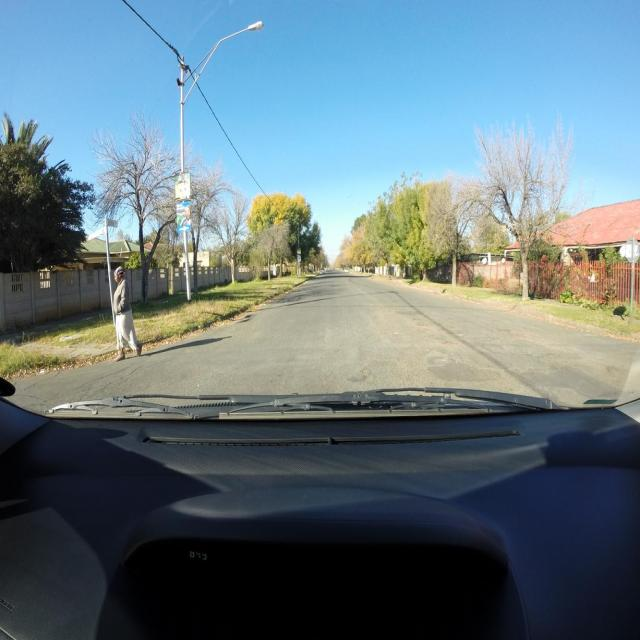Pothole: (607, 365, 623, 374), (416, 324, 442, 329), (441, 342, 457, 346), (413, 318, 423, 320)
